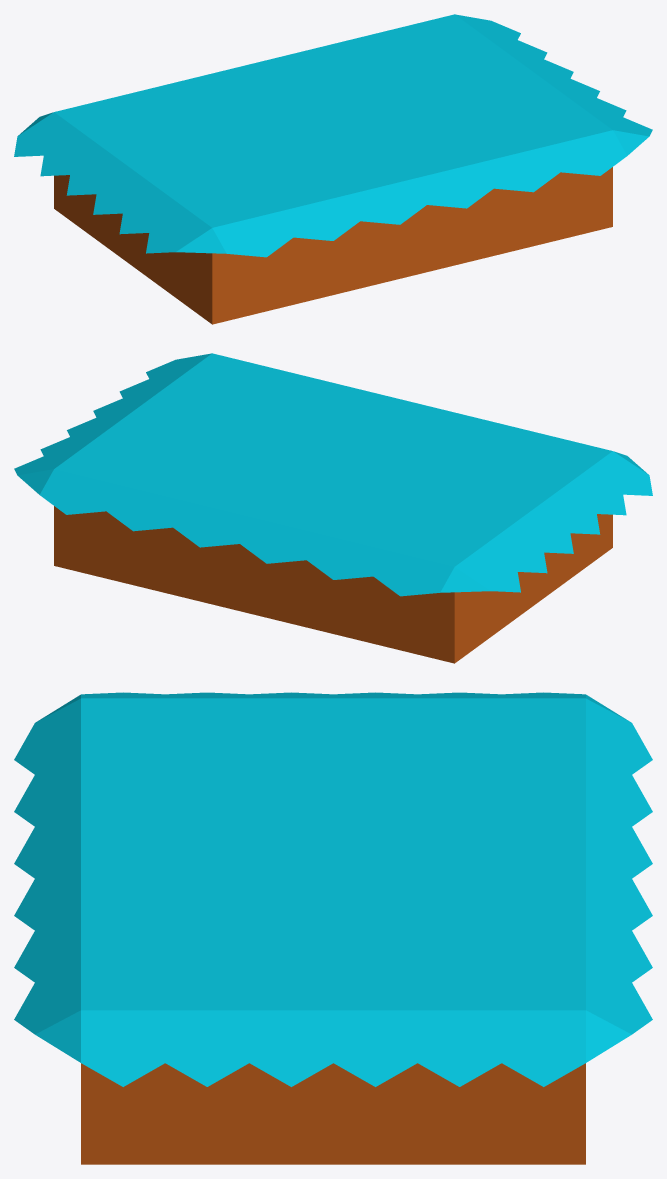
File: terreno_azul.glb
3 renders of one model, top to bottom at view 1: azimuth 30°, elevation 25°; view 2: azimuth 150°, elevation 25°; view 3: azimuth 270°, elevation 25°, orthographic. The views are drawn at different scales.
Parts seen in each view (by area): view 1: block; view 2: block; view 3: block.
Part boxes in pixels (bbox=[...]): block: bbox=[14, 14, 652, 324]; block: bbox=[14, 353, 652, 663]; block: bbox=[14, 692, 652, 1164].
Size of the model in its own units: 7.03 by 1.28 by 4.81.
